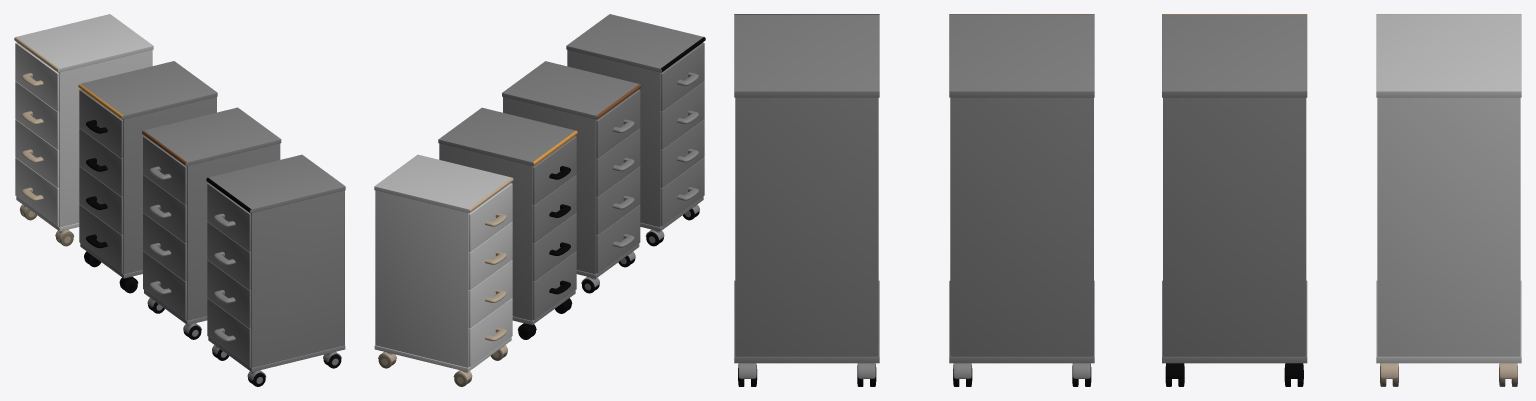
The model's file is gaveteiro.FBX.
3 views of the same model, side by side, from view 1: azimuth 30°, elevation 25°; view 2: azimuth 150°, elevation 25°; view 3: azimuth 270°, elevation 25° (orthographic). The views are drawn at different scales.
Parts seen in each view (by area): view 1: Box01, Gaveta 1, Gaveta 2, gaveta 4 (branca), Gaveta 3 (bege), Box10, Box28, Box19, Box36, Box27, Box09, Box18 (+12 smaller); view 2: Box28, gaveta 4 (branca), Gaveta 3 (bege), Gaveta 2, Gaveta 1, Box01, Box19, Box10, Box36, Box27, Box18, Box09 (+12 smaller); view 3: Box28, Box10, Box01, Box19, gaveta 4 (branca), Gaveta 1, Gaveta 3 (bege), Gaveta 2.
Boxes of the visible parts, bbox=[...] form: Box01: bbox=[211, 184, 344, 367]; Gaveta 1: bbox=[206, 154, 345, 371]; Gaveta 2: bbox=[142, 107, 281, 324]; gaveta 4 (branca): bbox=[14, 14, 153, 231]; Gaveta 3 (bege): bbox=[78, 61, 217, 278]; Box10: bbox=[145, 136, 280, 320]; Box28: bbox=[17, 42, 152, 227]; Box19: bbox=[81, 89, 216, 274]; Box36: bbox=[15, 42, 59, 111]; Box27: bbox=[79, 89, 123, 158]; Box09: bbox=[207, 183, 251, 252]; Box18: bbox=[143, 136, 186, 205]; Box28: bbox=[375, 183, 510, 367]; gaveta 4 (branca): bbox=[374, 154, 513, 371]; Gaveta 3 (bege): bbox=[438, 107, 577, 325]; Gaveta 2: bbox=[502, 61, 641, 278]; Gaveta 1: bbox=[566, 14, 705, 231]; Box01: bbox=[567, 42, 702, 227]; Box19: bbox=[439, 136, 574, 320]; Box10: bbox=[503, 92, 634, 274]; Box36: bbox=[468, 183, 512, 252]; Box27: bbox=[532, 136, 576, 205]; Box18: bbox=[596, 89, 640, 158]; Box09: bbox=[660, 42, 704, 111]; Box28: bbox=[1377, 97, 1520, 356]; Box10: bbox=[950, 97, 1093, 356]; Box01: bbox=[735, 97, 878, 356]; Box19: bbox=[1163, 97, 1306, 356]; gaveta 4 (branca): bbox=[1376, 14, 1521, 363]; Gaveta 1: bbox=[734, 14, 879, 363]; Gaveta 3 (bege): bbox=[1162, 14, 1307, 363]; Gaveta 2: bbox=[949, 14, 1094, 363].
Bounding box in the file's own units: 22.51 × 36.6 × 86.42.
